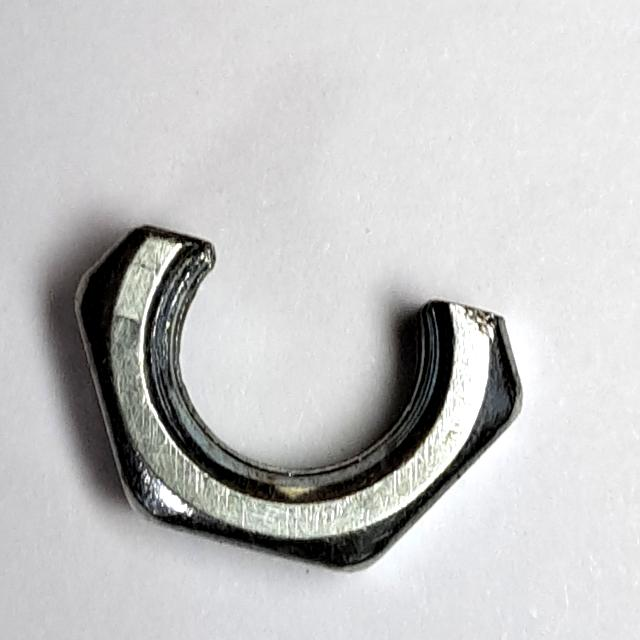Fracture: (59, 211, 536, 580)
